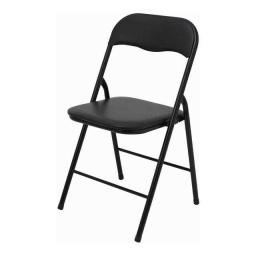Chair: (58, 13, 198, 241)
